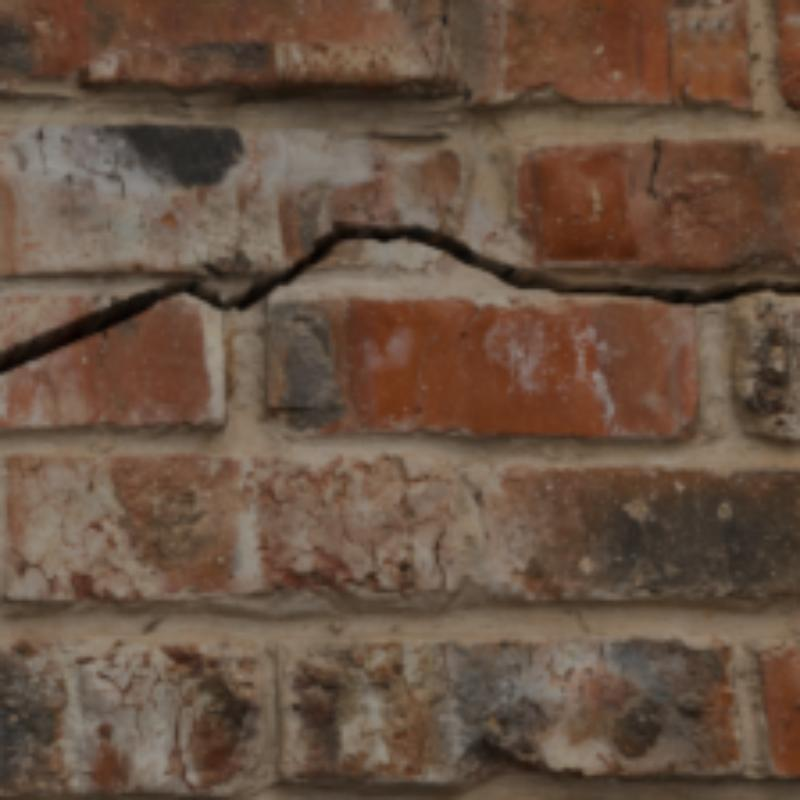pothole: (0, 221, 796, 371)
